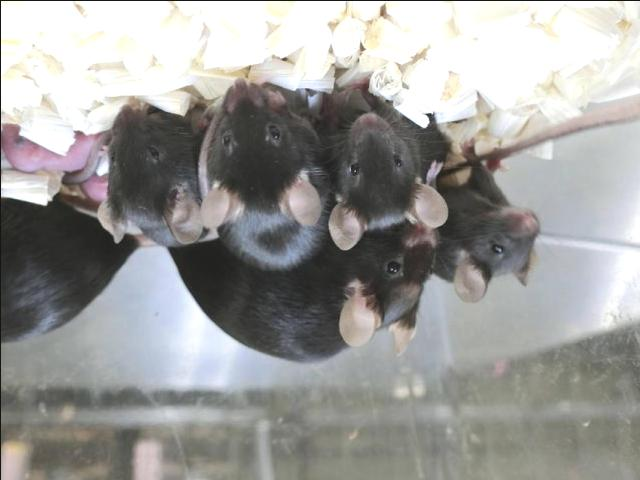Tikus: (165, 225, 438, 364), (194, 78, 326, 268), (313, 91, 447, 248), (92, 98, 218, 244), (427, 138, 538, 303)
